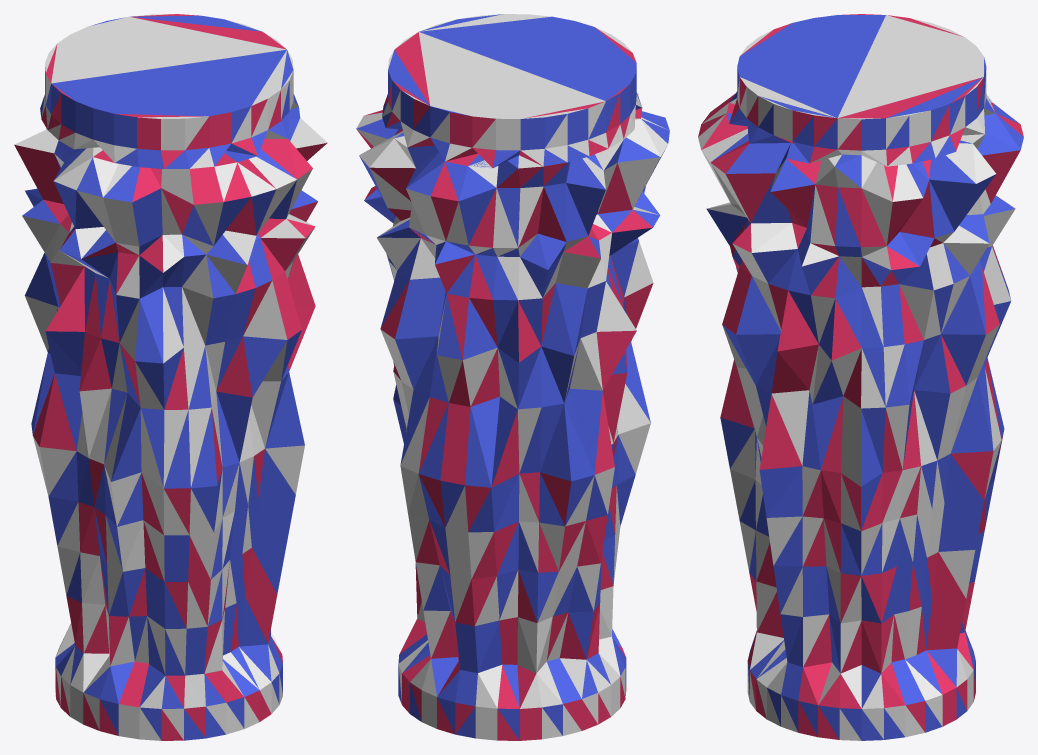
The model's file is nazo.fbx.
The picture shows the model from 3 angles, left to right: view 1: azimuth 30°, elevation 25°; view 2: azimuth 150°, elevation 25°; view 3: azimuth 270°, elevation 25°; orthographic projection.
Visible parts, largest first — view 1: 円柱; view 2: 円柱; view 3: 円柱.
Part boxes in pixels (x1,y1,x2,y2): 円柱: (14,14,327,740); 円柱: (356,14,669,740); 円柱: (698,14,1023,740).
Size of the model in its own units: 246 by 555 by 262.
